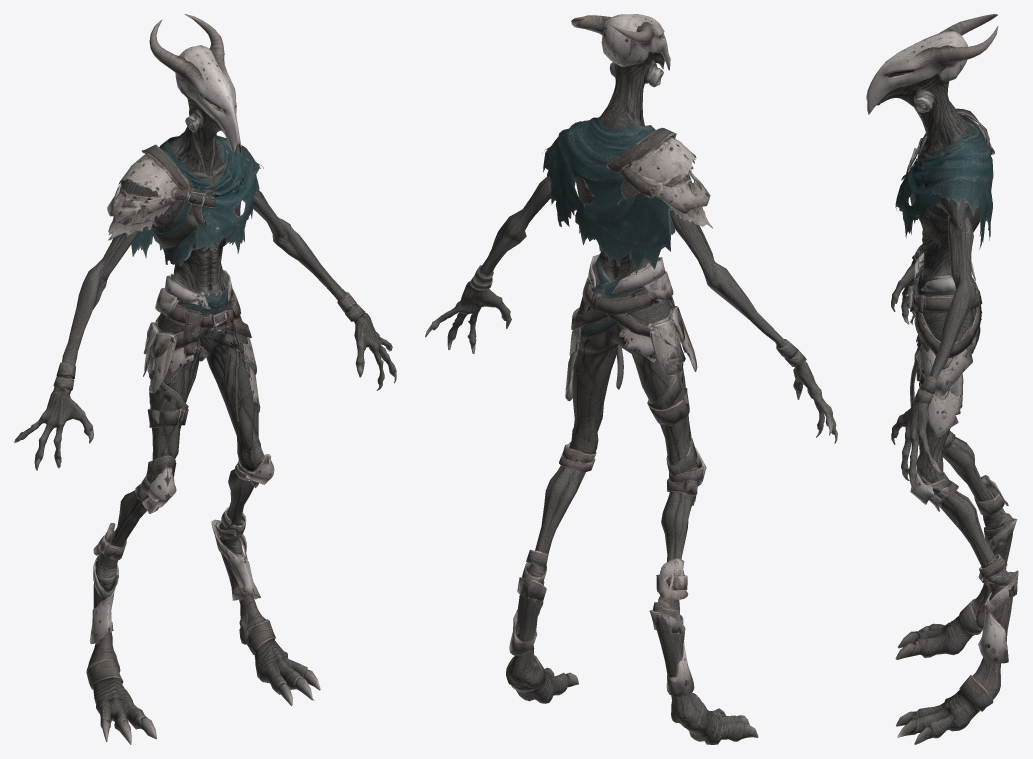
Rendered from varrik_thrall.glb.
The picture shows the model from 3 angles, left to right: view 1: azimuth 30°, elevation 25°; view 2: azimuth 150°, elevation 25°; view 3: azimuth 270°, elevation 25°; orthographic projection. The views are drawn at different scales.
Size of the model in its own units: 0.5601 by 0.9507 by 0.1948.
Materials: 1 (1 with a texture image).
